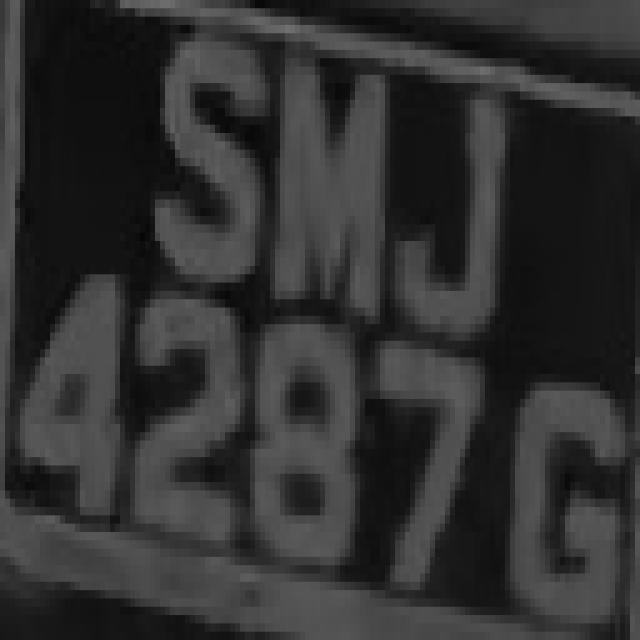2: (125, 258, 245, 557)
4: (5, 233, 125, 565)
7: (365, 308, 480, 615)
8: (250, 307, 365, 598)
G: (495, 349, 625, 640)
J: (400, 83, 530, 349)
M: (250, 42, 395, 340)
S: (135, 25, 275, 299)
